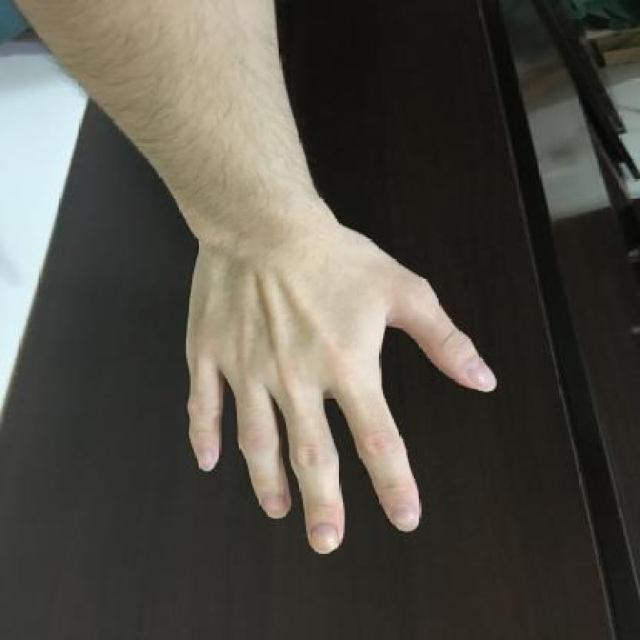bare_hand: (159, 198, 513, 567)
